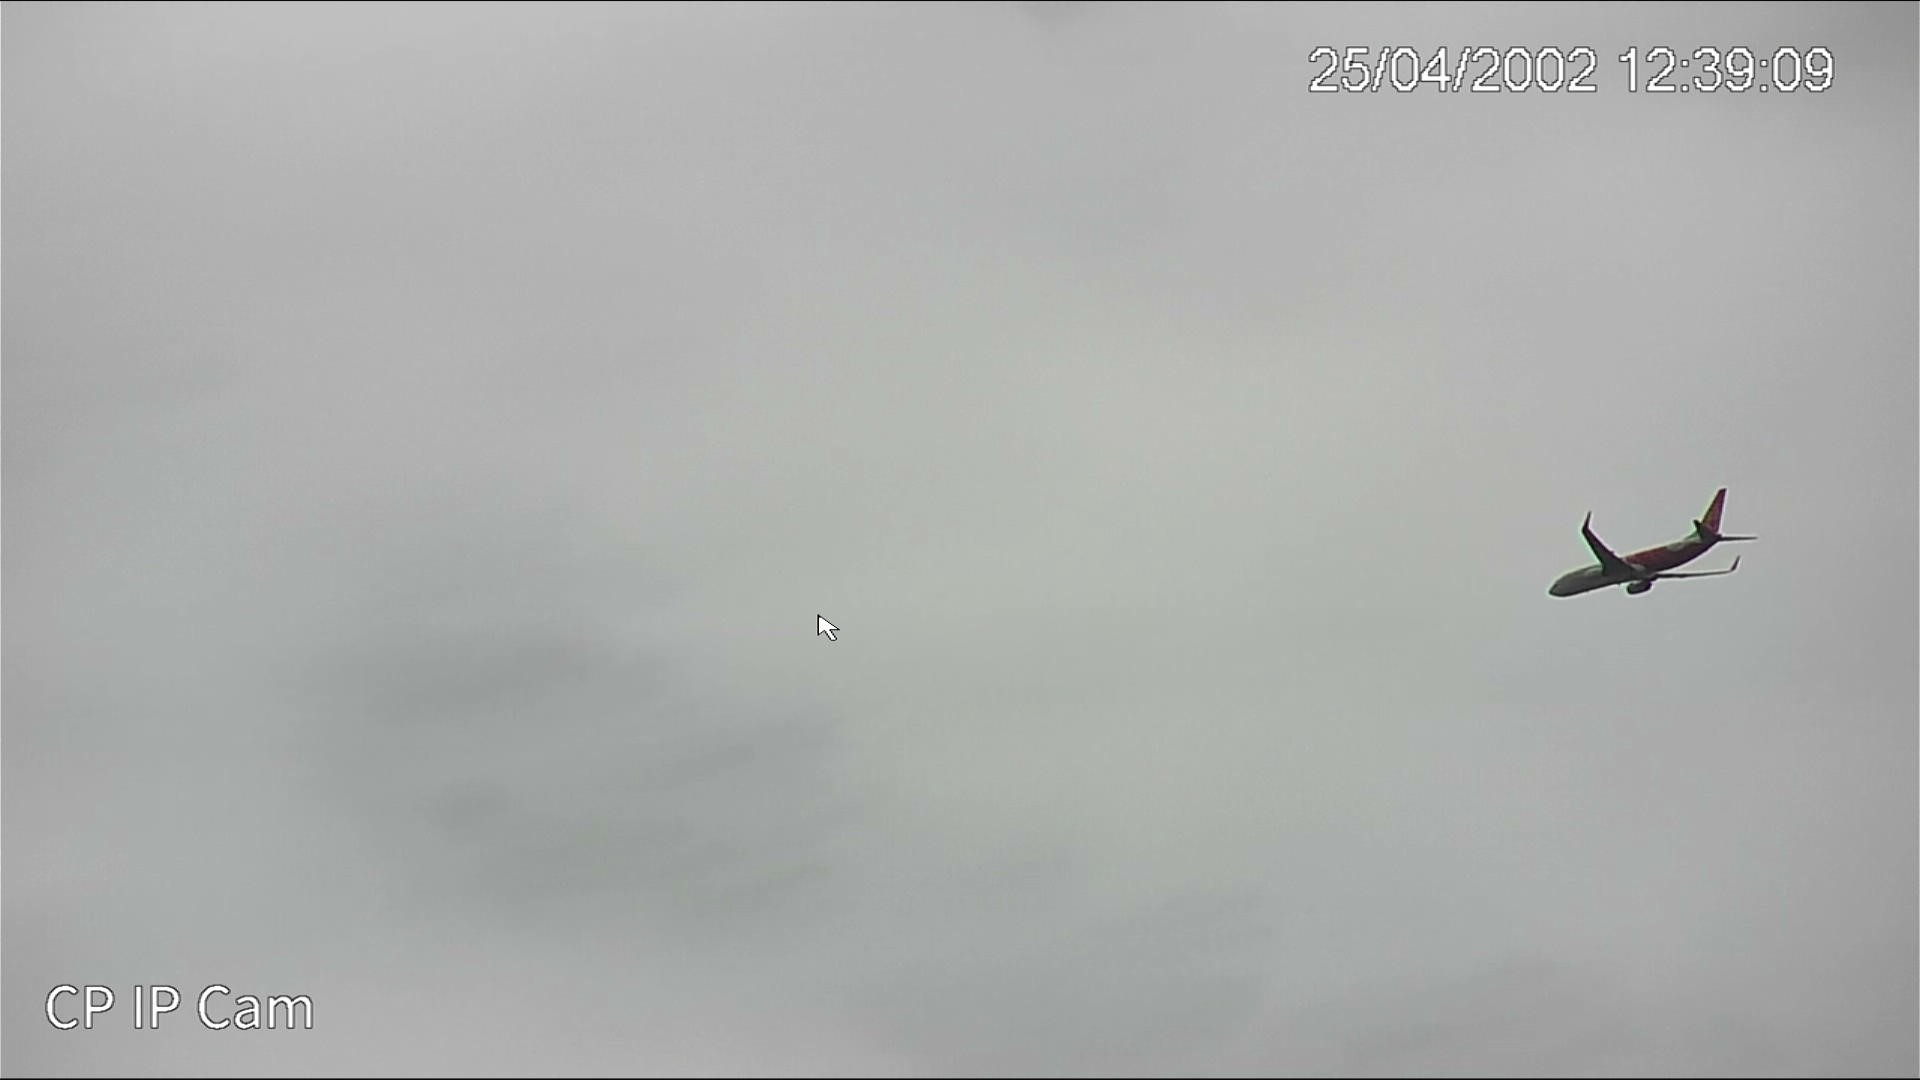SU_30: (1538, 492, 1754, 597)
